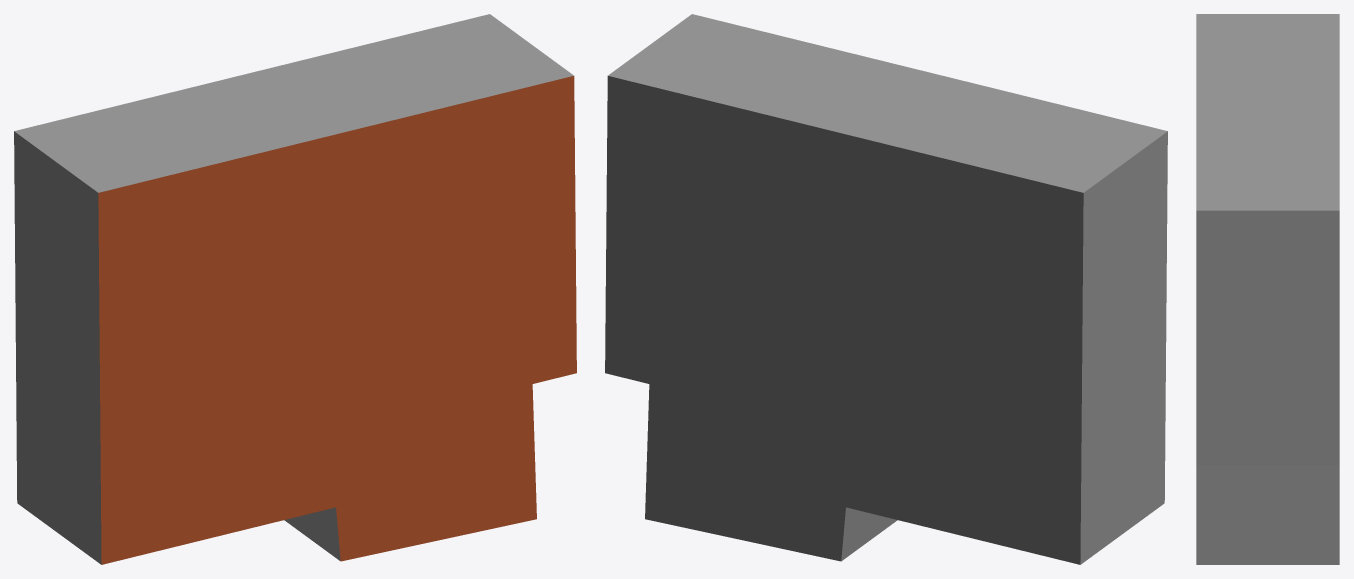
File: construction_4730_assumed_A_Casa_h6m.obj
3 views of the same model, side by side, from view 1: azimuth 30°, elevation 25°; view 2: azimuth 150°, elevation 25°; view 3: azimuth 270°, elevation 25° (orthographic). The views are drawn at different scales.
Parts seen in each view (by area): view 1: construction_4730_assumed_A_Casa; view 2: construction_4730_assumed_A_Casa; view 3: construction_4730_assumed_A_Casa.
Boxes of the visible parts, left/top/right/bottom form: construction_4730_assumed_A_Casa: left=14, top=14, right=576, bottom=564; construction_4730_assumed_A_Casa: left=605, top=14, right=1167, bottom=564; construction_4730_assumed_A_Casa: left=1196, top=14, right=1339, bottom=564.
Size of the model in its own units: 19.66 by 17.05 by 6.
